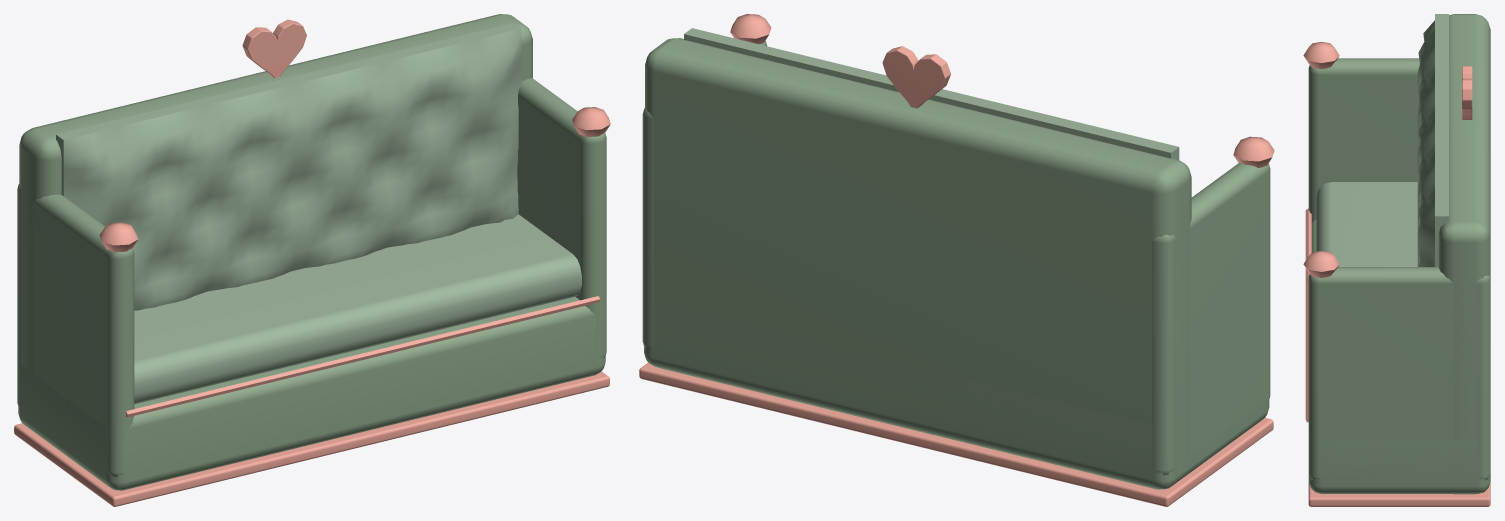
The model's file is booth_sofa.glb.
3 views of the same model, side by side, from view 1: azimuth 30°, elevation 25°; view 2: azimuth 150°, elevation 25°; view 3: azimuth 270°, elevation 25° (orthographic). The views are drawn at different scales.
Visible parts, largest first — view 1: booth_sofa; view 2: booth_sofa; view 3: booth_sofa.
Part boxes in pixels (<box>): booth_sofa: <box>14,14,610,506</box>; booth_sofa: <box>639,14,1274,506</box>; booth_sofa: <box>1303,14,1490,506</box>.
Bounding box in the file's own units: 2.04 × 1.38 × 0.72.
